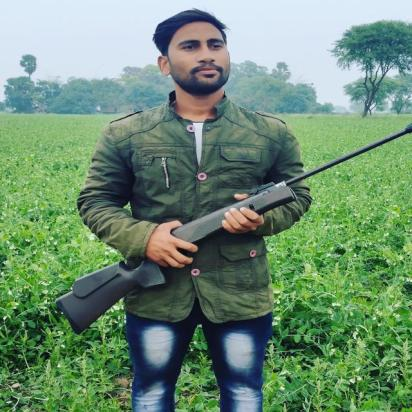Gun: (51, 123, 412, 338)
